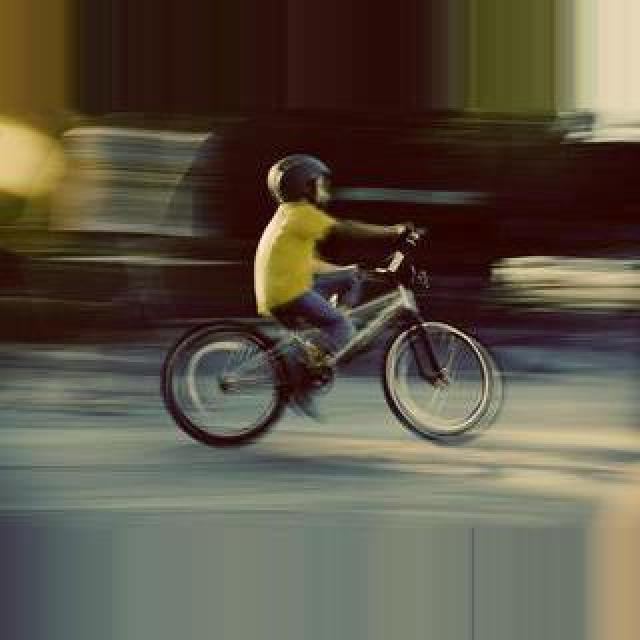MC-Bike: (252, 152, 412, 398)
Person: (164, 228, 500, 454)
